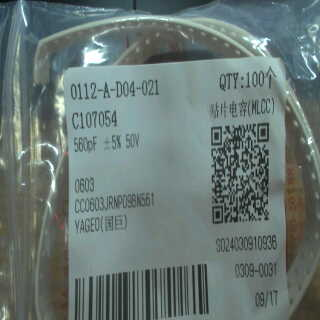560pF: (69, 131, 99, 157)
